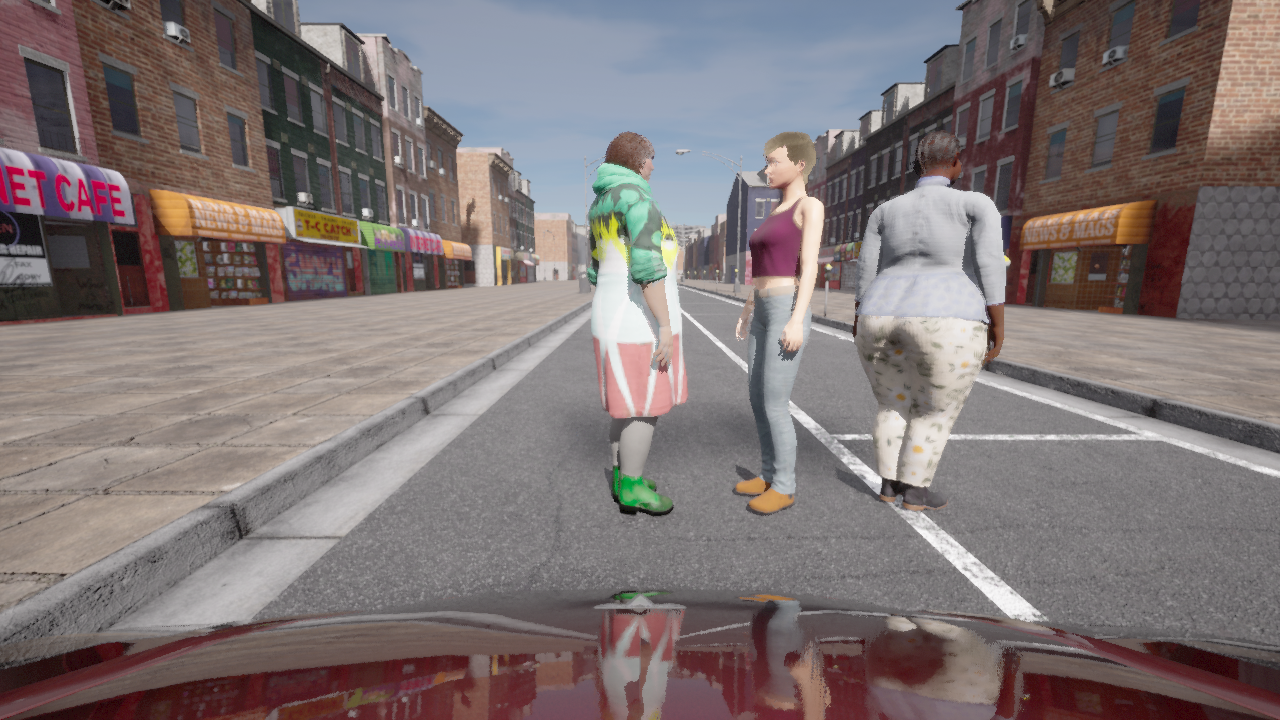cyclist: (0, 588, 1279, 719)
pedestrian: (854, 130, 1006, 510), (585, 131, 688, 515), (735, 131, 823, 513)
